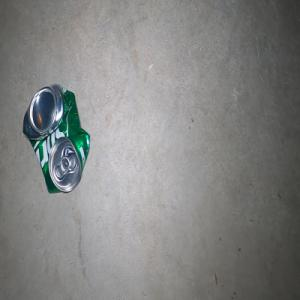SodaCan: (22, 83, 90, 193)
